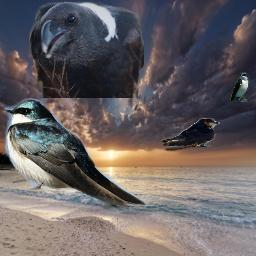Crow: (29, 1, 144, 98)
Swallow: (4, 98, 147, 209), (161, 118, 220, 151), (230, 72, 249, 102)
